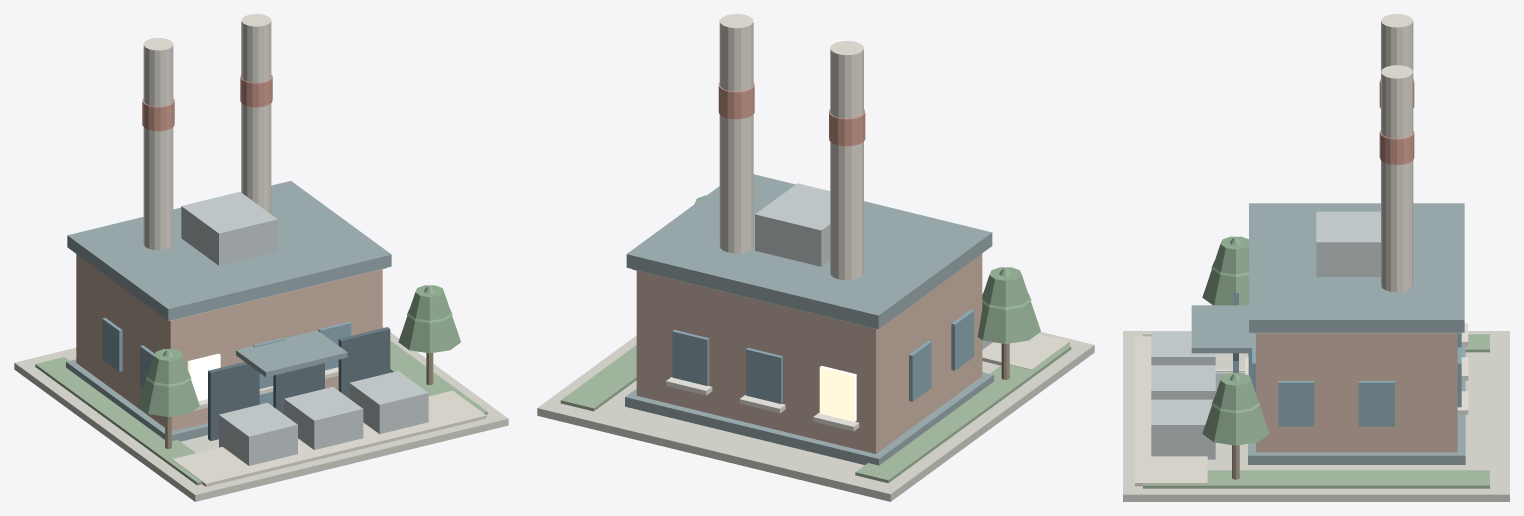
Rendered from remaster_industry_factory_0.glb.
3 renders of one model, left to right at view 1: azimuth 30°, elevation 25°; view 2: azimuth 150°, elevation 25°; view 3: azimuth 270°, elevation 25°, orthographic. The views are drawn at different scales.
Visible parts, largest first — view 1: remaster_industry_factory_0 roof, remaster_industry_factory_0 brick, remaster_industry_factory_0 cream, remaster_industry_factory_0 metal, remaster_industry_factory_0 stone, remaster_industry_factory_0 dark, remaster_industry_factory_0 leaf, remaster_industry_factory_0 green, remaster_industry_factory_0 glass, remaster_industry_factory_0 red, remaster_industry_factory_0 warm; view 2: remaster_industry_factory_0 brick, remaster_industry_factory_0 roof, remaster_industry_factory_0 cream, remaster_industry_factory_0 stone, remaster_industry_factory_0 green, remaster_industry_factory_0 glass, remaster_industry_factory_0 metal, remaster_industry_factory_0 leaf, remaster_industry_factory_0 red, remaster_industry_factory_0 warm, remaster_industry_factory_0 white; view 3: remaster_industry_factory_0 roof, remaster_industry_factory_0 brick, remaster_industry_factory_0 stone, remaster_industry_factory_0 cream, remaster_industry_factory_0 metal, remaster_industry_factory_0 green, remaster_industry_factory_0 leaf, remaster_industry_factory_0 glass, remaster_industry_factory_0 red, remaster_industry_factory_0 white.
Part boxes in pixels (x1,y1,x2,y2): remaster_industry_factory_0 roof: (66,181,391,441); remaster_industry_factory_0 brick: (76,254,382,431); remaster_industry_factory_0 cream: (143,14,486,486); remaster_industry_factory_0 metal: (181,192,428,465); remaster_industry_factory_0 stone: (14,268,508,501); remaster_industry_factory_0 dark: (208,327,390,440); remaster_industry_factory_0 leaf: (137,285,460,416); remaster_industry_factory_0 green: (35,341,487,485); remaster_industry_factory_0 glass: (102,317,351,406); remaster_industry_factory_0 red: (142,75,272,131); remaster_industry_factory_0 warm: (187,353,220,401); remaster_industry_factory_0 brick: (636,253,982,453); remaster_industry_factory_0 roof: (625,174,993,465); remaster_industry_factory_0 cream: (719,14,1069,369); remaster_industry_factory_0 stone: (537,269,1094,501); remaster_industry_factory_0 green: (560,345,1071,483); remaster_industry_factory_0 glass: (672,310,974,403); remaster_industry_factory_0 metal: (755,183,992,349); remaster_industry_factory_0 leaf: (695,195,1040,343); remaster_industry_factory_0 red: (718,82,865,146); remaster_industry_factory_0 warm: (819,366,856,421); remaster_industry_factory_0 white: (666,377,859,431); remaster_industry_factory_0 roof: (1191,203,1465,464); remaster_industry_factory_0 brick: (1256,333,1457,452); remaster_industry_factory_0 stone: (1123,331,1509,501); remaster_industry_factory_0 cream: (1135,14,1413,486); remaster_industry_factory_0 metal: (1151,211,1380,459); remaster_industry_factory_0 green: (1143,334,1489,488); remaster_industry_factory_0 leaf: (1202,236,1269,445); remaster_industry_factory_0 glass: (1248,332,1461,426); remaster_industry_factory_0 red: (1379,79,1414,164); remaster_industry_factory_0 white: (1215,323,1468,414).
Size of the model in its own units: 9.64 by 10 by 9.6.
